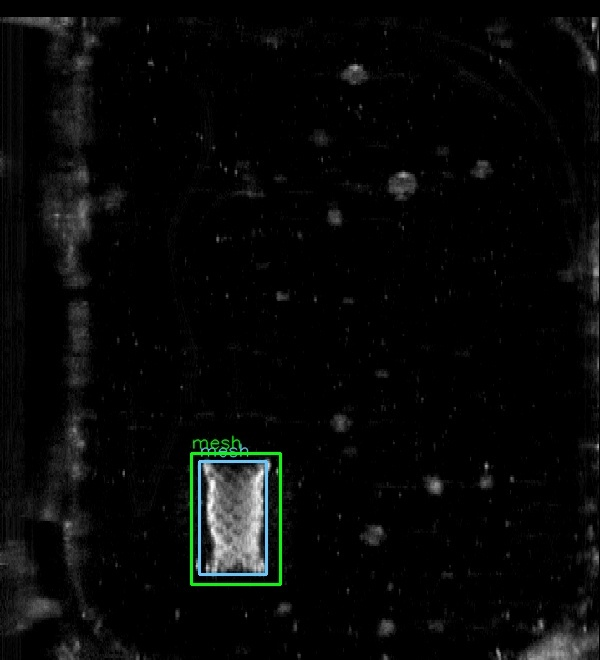mesh: (199, 461, 266, 574)
